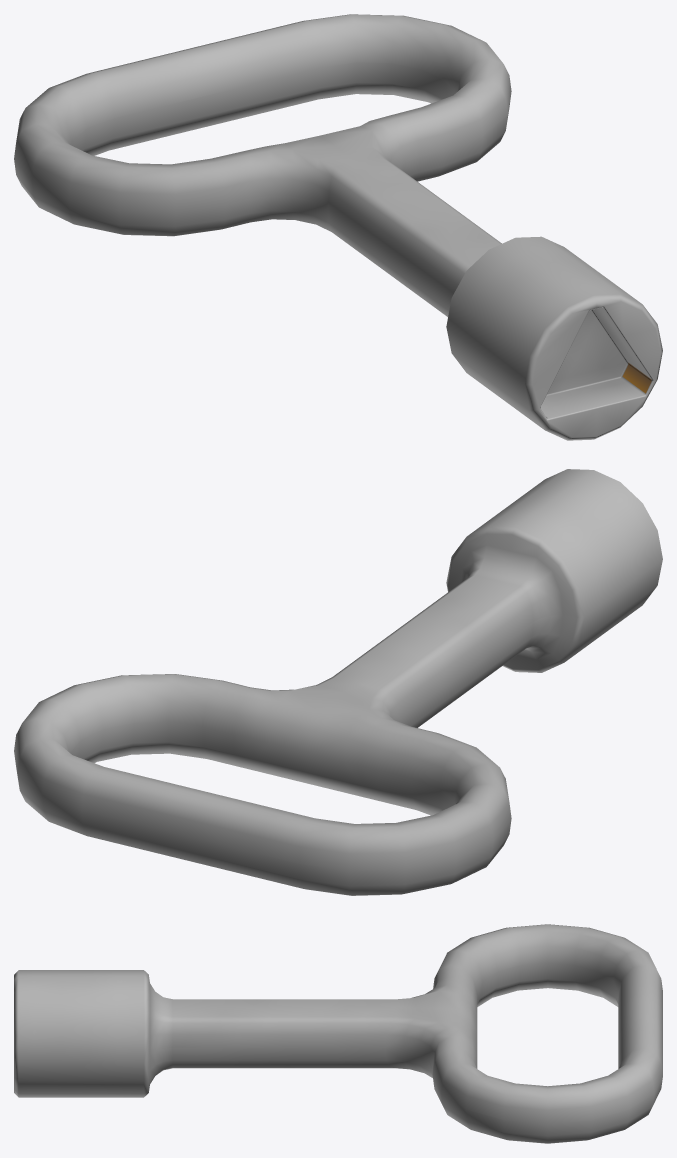
The model's file is Service_Key.fbx.
3 views of the same model, one above another, from view 1: azimuth 30°, elevation 25°; view 2: azimuth 150°, elevation 25°; view 3: azimuth 270°, elevation 25° (orthographic). The views are drawn at different scales.
Visible parts, largest first — view 1: Service_Key; view 2: Service_Key; view 3: Service_Key.
Part boxes in pixels (x1,y1,x2,y2): Service_Key: (14,14,662,440); Service_Key: (14,469,662,895); Service_Key: (14,924,662,1143).
Size of what is drawn, in the model's own units: 0.0368 by 0.011 by 0.0561.
